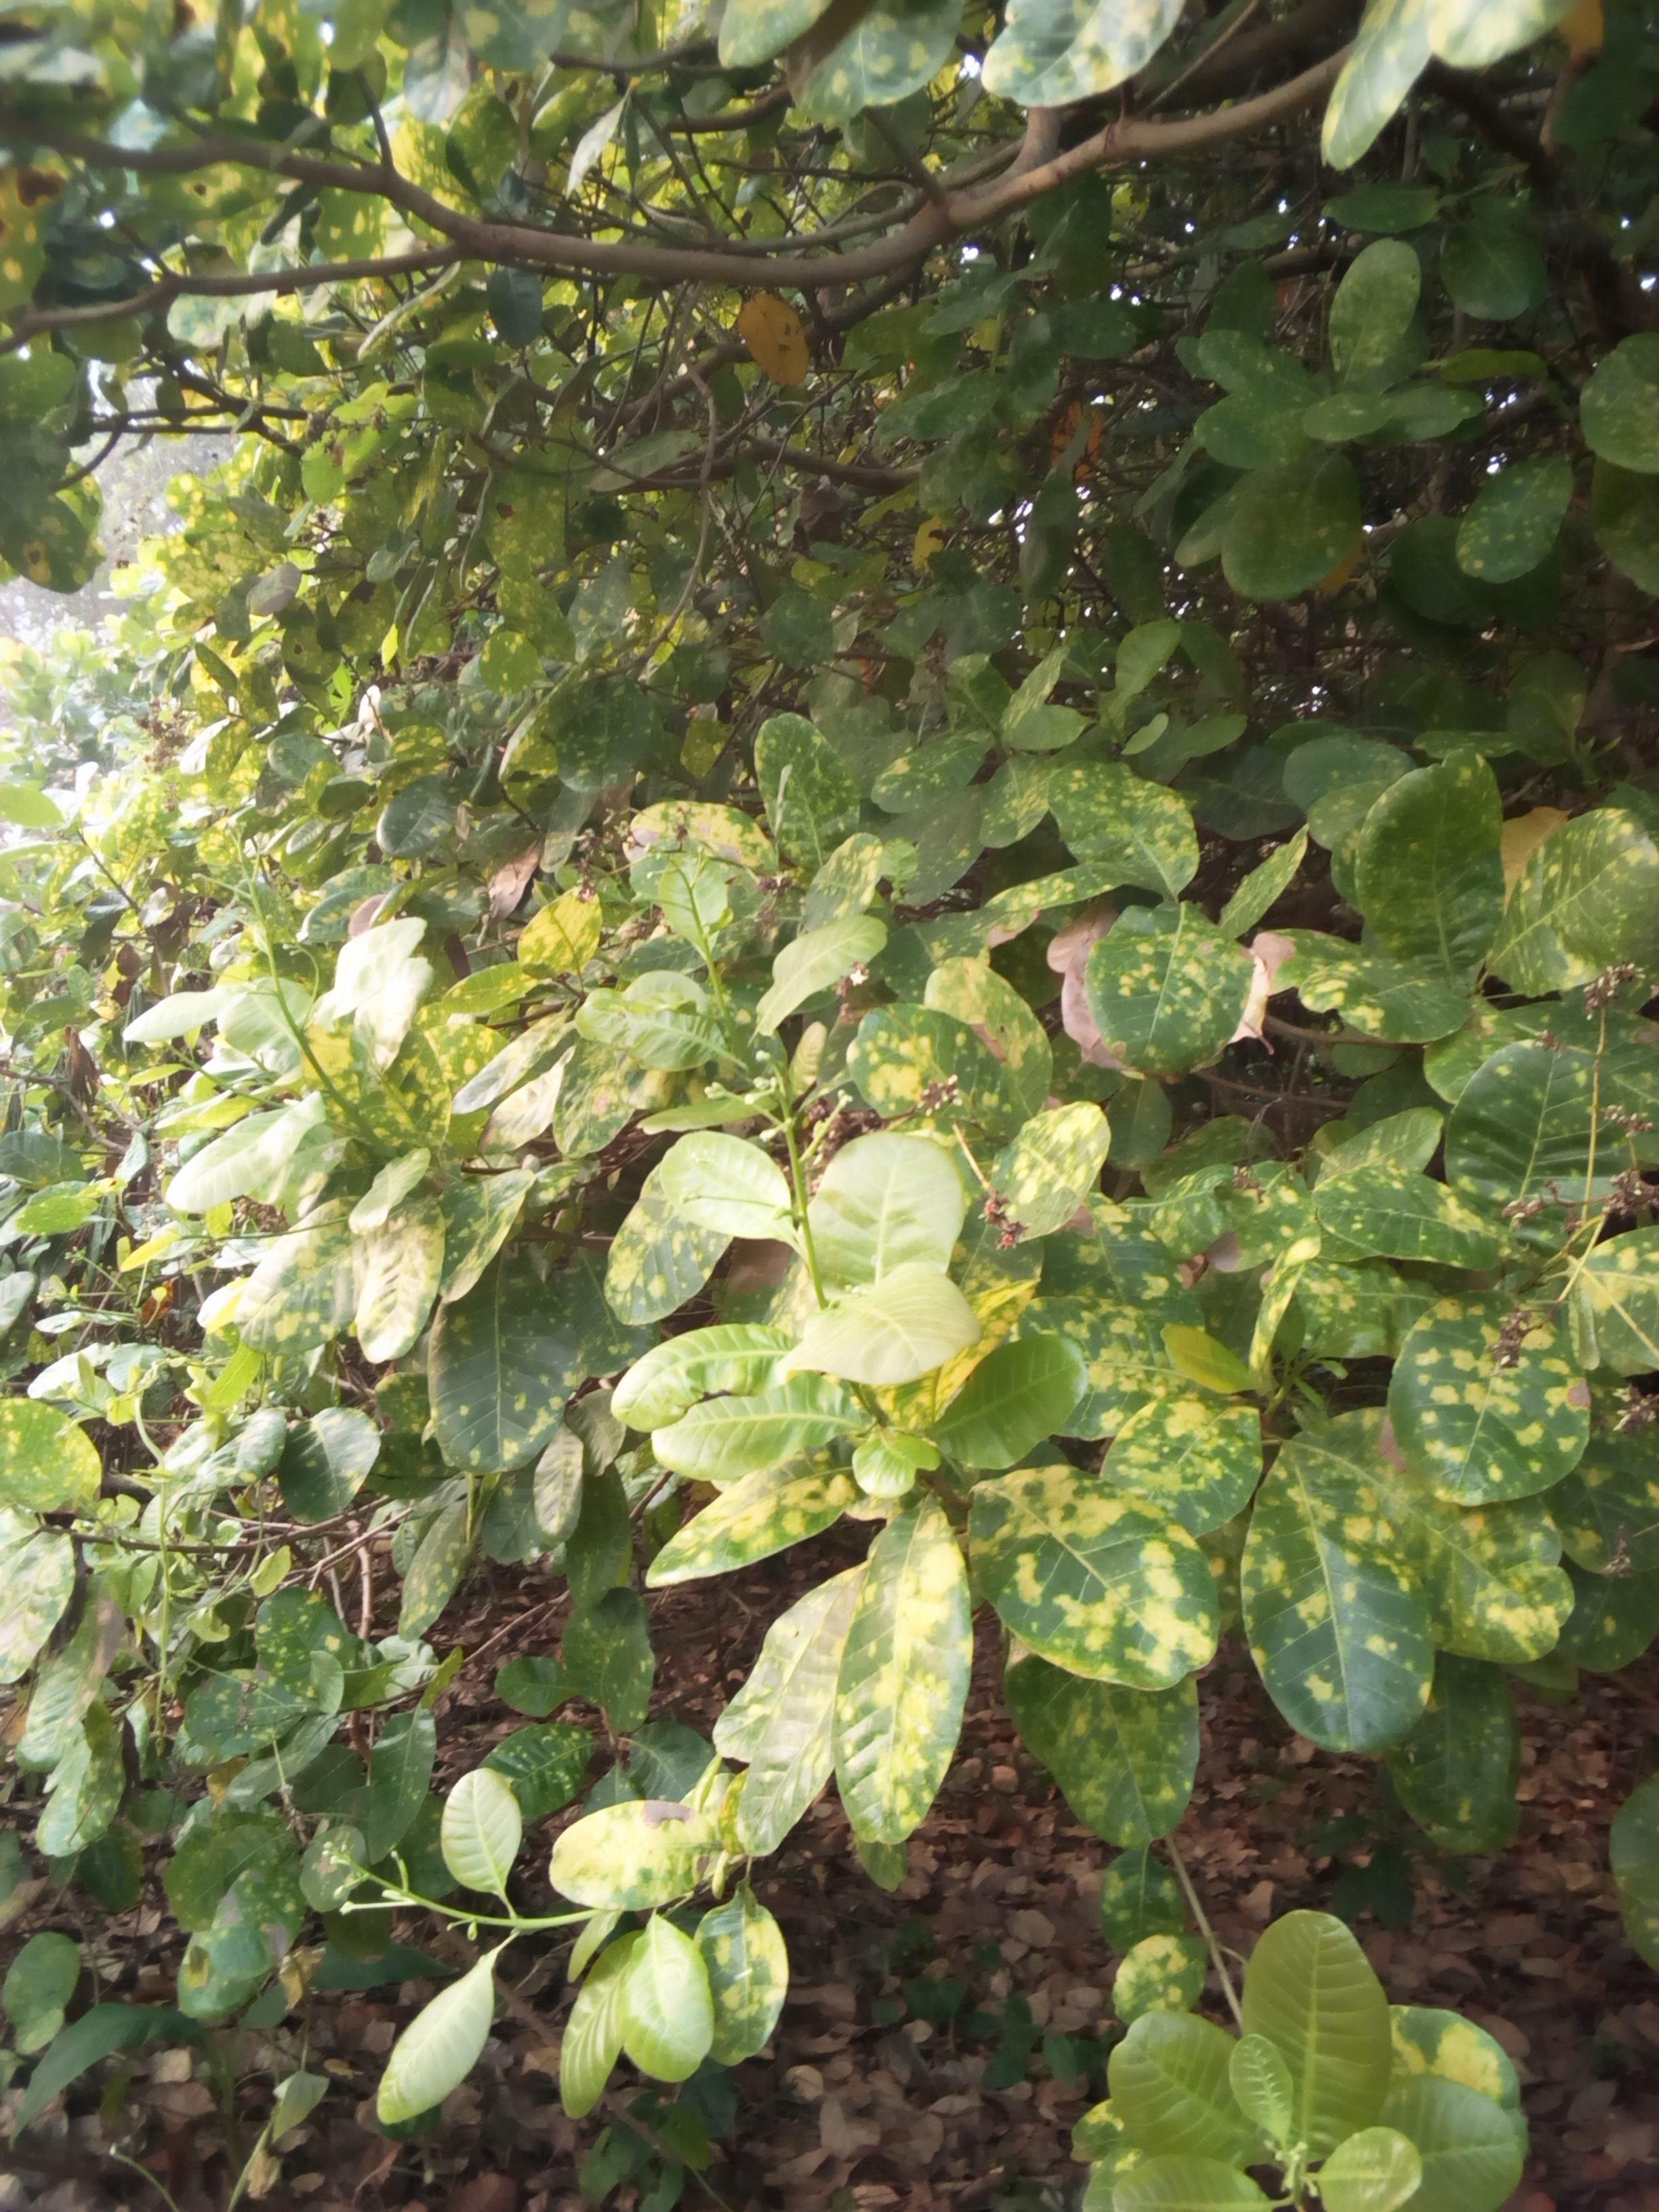Carence minérale: (1243, 1425, 1464, 1763), (809, 1500, 995, 1865), (988, 1447, 1232, 1716), (772, 1109, 995, 1386), (965, 1472, 1232, 1696), (1375, 1285, 1582, 1519), (413, 1224, 593, 1482), (1351, 751, 1521, 1008), (535, 967, 725, 1167), (1483, 794, 1659, 1008), (1016, 740, 1243, 899), (1066, 1386, 1286, 1543), (1080, 888, 1260, 1078), (535, 1787, 775, 1916), (1307, 1163, 1558, 1282), (744, 909, 948, 1031), (748, 700, 863, 869)
